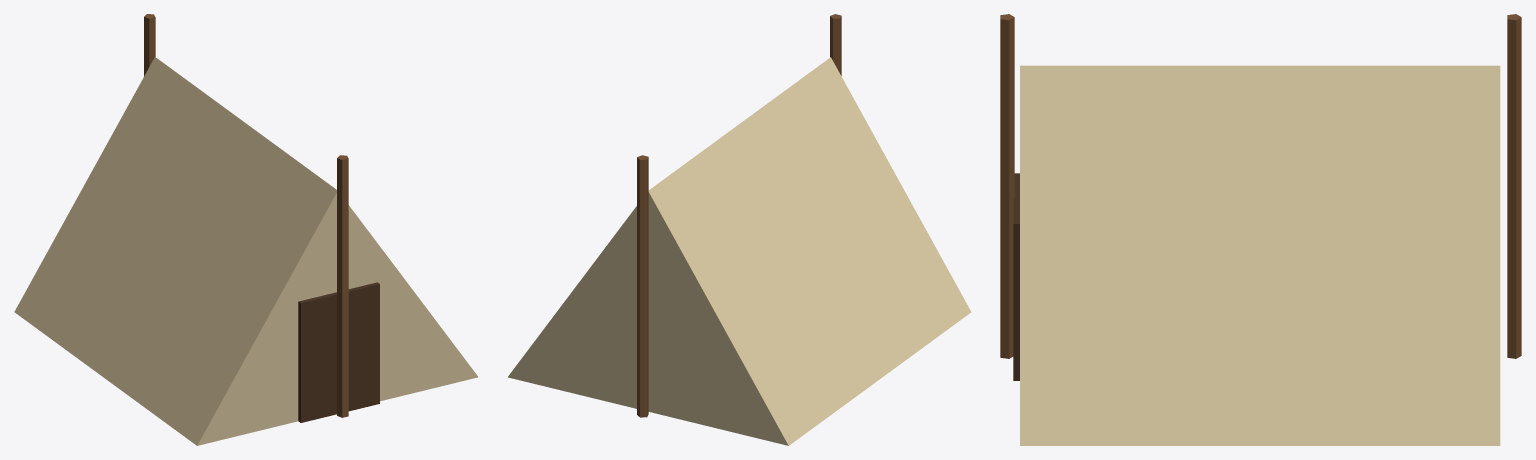
File: tent.glb
The picture shows the model from 3 angles, left to right: view 1: azimuth 30°, elevation 25°; view 2: azimuth 150°, elevation 25°; view 3: azimuth 270°, elevation 25°; orthographic projection. The views are drawn at different scales.
Visible parts, largest first — view 1: tent; view 2: tent; view 3: tent.
Boxes of the visible parts, bbox=[...] form: tent: bbox=[14, 14, 478, 445]; tent: bbox=[508, 14, 971, 445]; tent: bbox=[1000, 14, 1521, 445].
Bounding box in the file's own units: 3.2 × 2.8 × 3.91.
